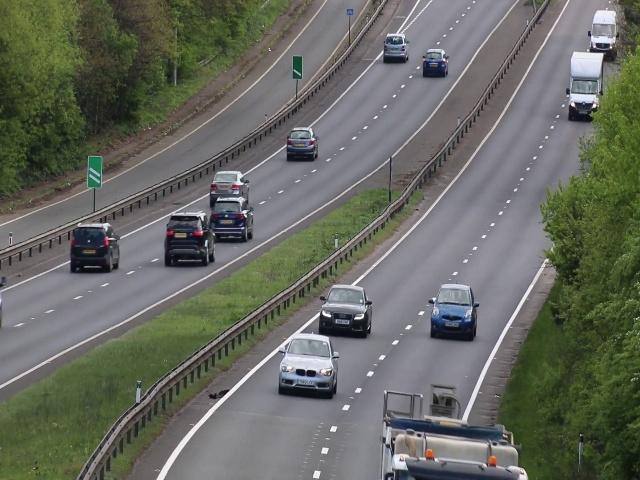car: (278, 336, 339, 397), (317, 280, 374, 338), (428, 281, 478, 342), (163, 210, 216, 266), (67, 221, 121, 274), (209, 196, 256, 241), (286, 124, 320, 163), (208, 167, 250, 197), (569, 82, 598, 123), (381, 28, 411, 63), (589, 28, 618, 63), (422, 47, 450, 79)
